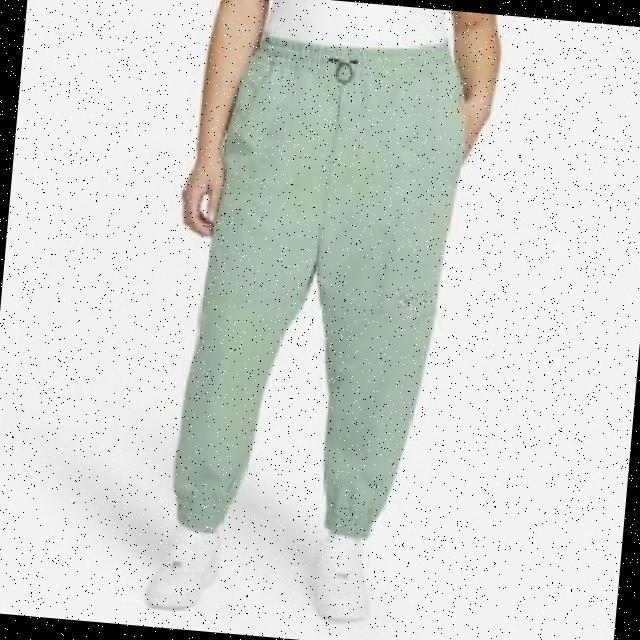Nike: (396, 289, 429, 308)
